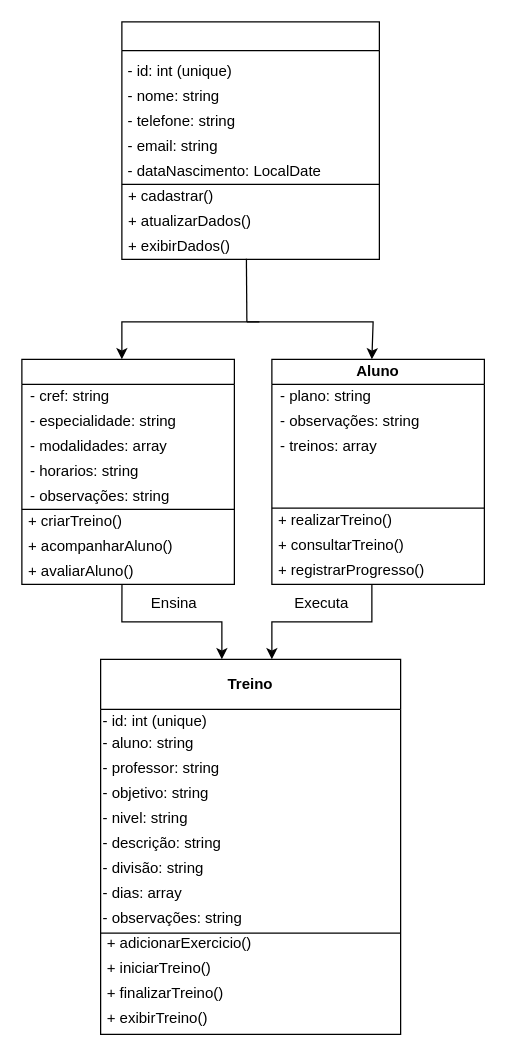
The diagram is 508 pixels wide and 1056 high, and some of its shapes have lost their labels. The shapes that lost their labels are listed below. From the top down, each one's box as (x1, y1, x2, y2) in pixels, then its label:
(121, 21, 379, 259): Pessoa
(21, 358, 234, 584): Professor
